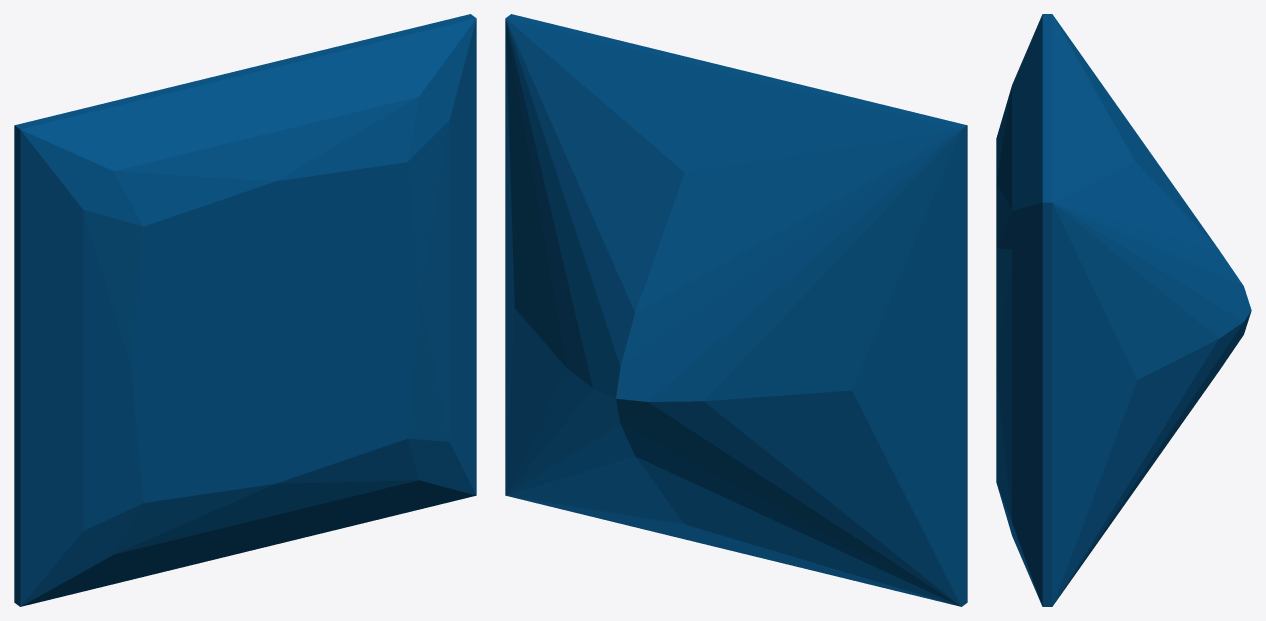
The model's file is shirley.glb.
3 renders of one model, left to right at view 1: azimuth 30°, elevation 25°; view 2: azimuth 150°, elevation 25°; view 3: azimuth 270°, elevation 25°, orthographic. The views are drawn at different scales.
Visible parts, largest first — view 1: Shirley; view 2: Shirley; view 3: Shirley.
Part boxes in pixels (bbox=[...]): Shirley: bbox=[14, 14, 476, 606]; Shirley: bbox=[505, 14, 967, 606]; Shirley: bbox=[996, 14, 1251, 606].
Size of the model in its own units: 2 by 2 by 1.14.
